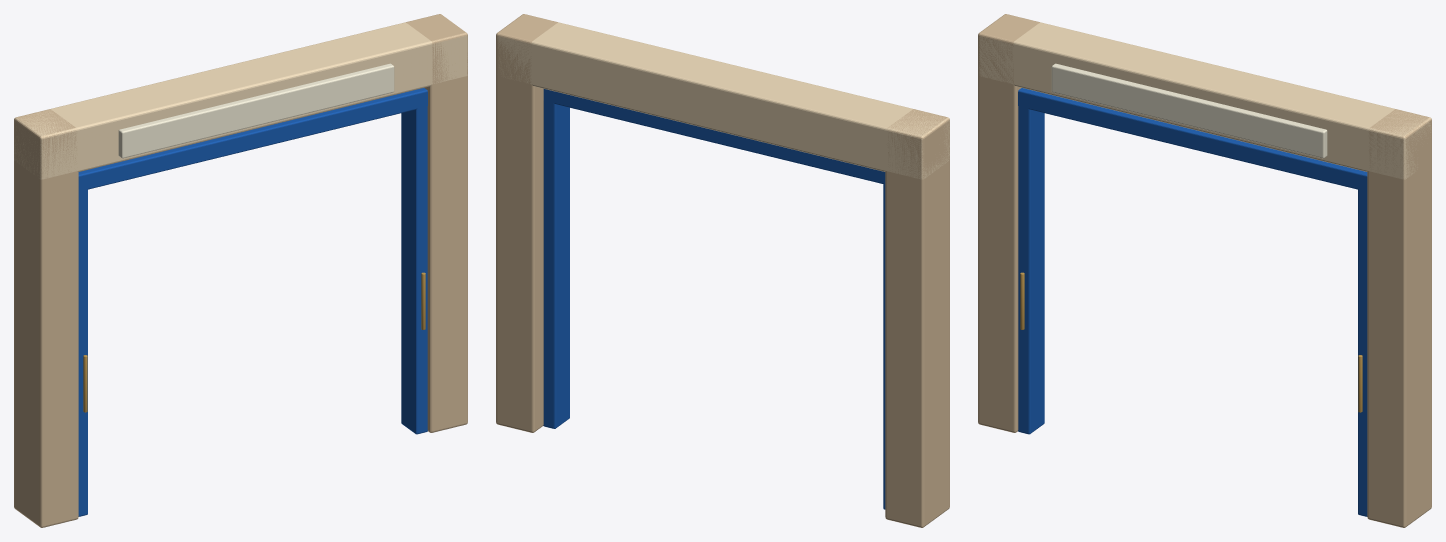
File: Portal_4m.fbx
3 renders of one model, left to right at view 1: azimuth 30°, elevation 25°; view 2: azimuth 150°, elevation 25°; view 3: azimuth 330°, elevation 25°, orthographic.
Parts seen in each view (by area): view 1: Stone pier, Lintel, Stone pier.001, Cobalt jamb.001, Blank editable sign carrier, Cobalt transom, Cobalt jamb; view 2: Lintel, Stone pier, Stone pier.001, Cobalt jamb.001, Cobalt transom, Cobalt jamb; view 3: Stone pier.001, Lintel, Stone pier, Cobalt jamb, Blank editable sign carrier, Cobalt transom, Cobalt jamb.001.
Part boxes in pixels (left/top/right/bottom): Stone pier: left=14, top=109, right=78, bottom=527; Lintel: left=14, top=22, right=467, bottom=179; Stone pier.001: left=406, top=14, right=467, bottom=432; Cobalt jamb.001: left=401, top=98, right=427, bottom=434; Blank editable sign carrier: left=118, top=63, right=394, bottom=158; Cobalt transom: left=78, top=88, right=427, bottom=189; Cobalt jamb: left=78, top=181, right=87, bottom=516; Lintel: left=497, top=22, right=949, bottom=179; Stone pier: left=885, top=109, right=949, bottom=527; Stone pier.001: left=496, top=14, right=557, bottom=432; Cobalt jamb.001: left=543, top=93, right=569, bottom=428; Cobalt transom: left=543, top=89, right=885, bottom=183; Cobalt jamb: left=883, top=176, right=885, bottom=509; Stone pier.001: left=1367, top=109, right=1431, bottom=527; Lintel: left=979, top=22, right=1431, bottom=179; Stone pier: left=978, top=14, right=1039, bottom=432; Cobalt jamb: left=1018, top=99, right=1044, bottom=434; Blank editable sign carrier: left=1051, top=63, right=1327, bottom=158; Cobalt transom: left=1018, top=88, right=1367, bottom=190; Cobalt jamb.001: left=1358, top=181, right=1367, bottom=516.
Bounding box in the file's own units: 4 × 3.5 × 0.5075.
